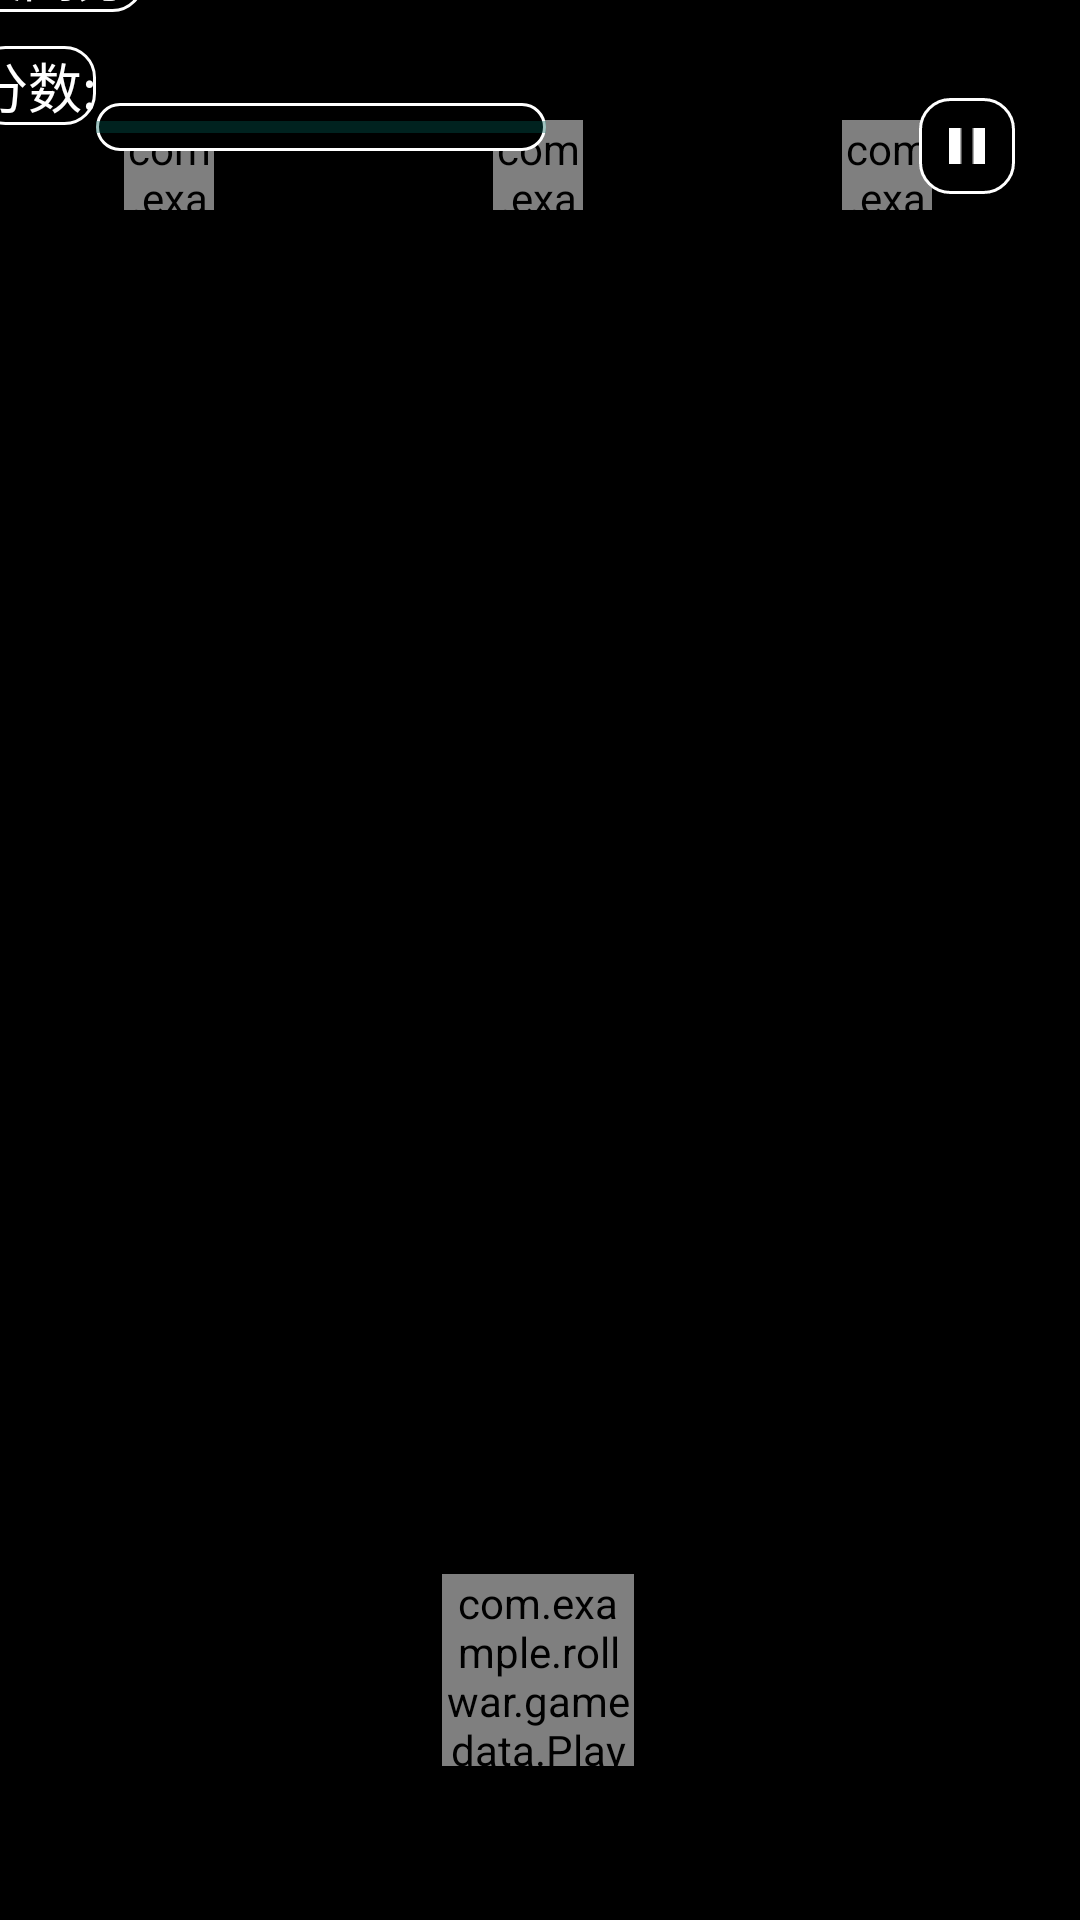

Icons on this 1080 × 1920 Android screen, each with its box as (x1, y1, x2, y2):
pause: (919, 98, 1015, 194)
